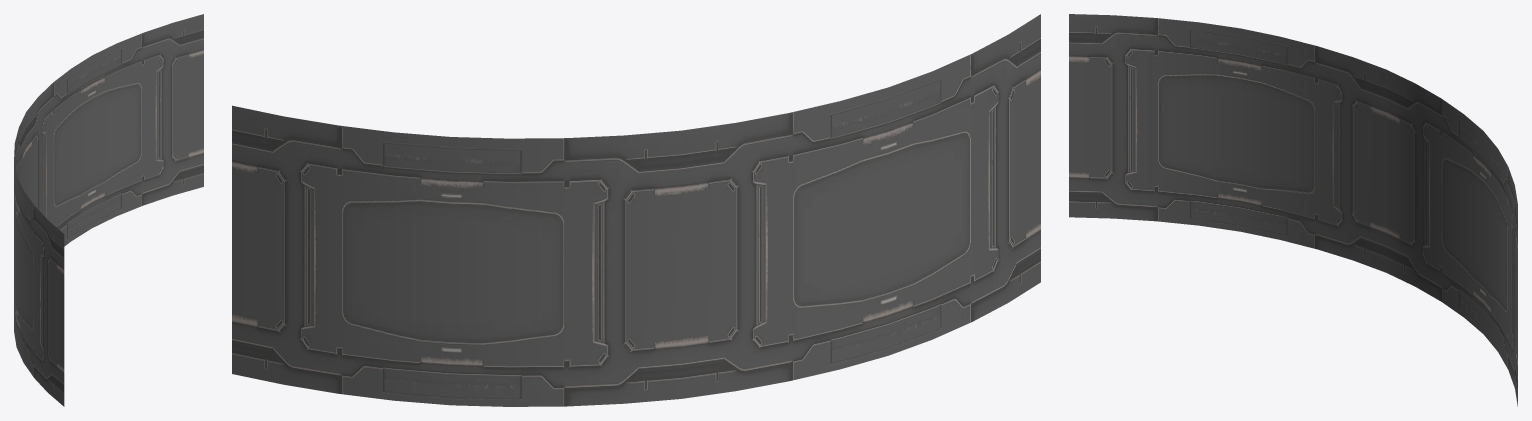
The model's file is ShortWall_Metal2_Corner_Inner.glb.
3 views of the same model, side by side, from view 1: azimuth 30°, elevation 25°; view 2: azimuth 150°, elevation 25°; view 3: azimuth 270°, elevation 25° (orthographic). The views are drawn at different scales.
Parts seen in each view (by area): view 1: ShortWall_Metal2_Corner_Inner; view 2: ShortWall_Metal2_Corner_Inner; view 3: ShortWall_Metal2_Corner_Inner.
Part boxes in pixels (x1,y1,x2,y2): ShortWall_Metal2_Corner_Inner: (14, 14, 203, 406); ShortWall_Metal2_Corner_Inner: (232, 14, 1040, 406); ShortWall_Metal2_Corner_Inner: (1069, 14, 1517, 406).
Bounding box in the file's own units: 4 × 2 × 4.
Materials: 1 (1 with a texture image).
